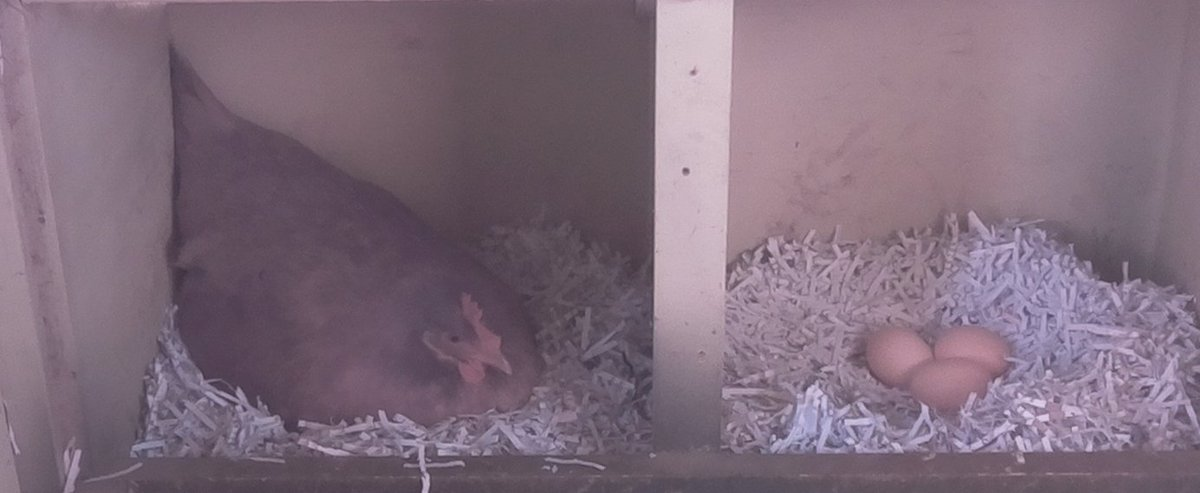egg: (905, 356, 996, 411), (930, 324, 1018, 375), (863, 323, 933, 384)
hen: (162, 69, 543, 438)
